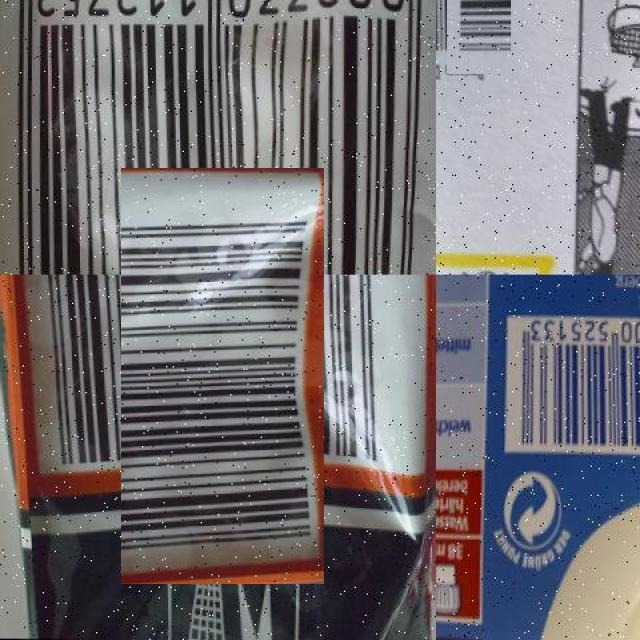Barcode: (0, 0, 436, 275), (68, 222, 378, 532), (501, 314, 640, 462), (442, 0, 516, 69)
